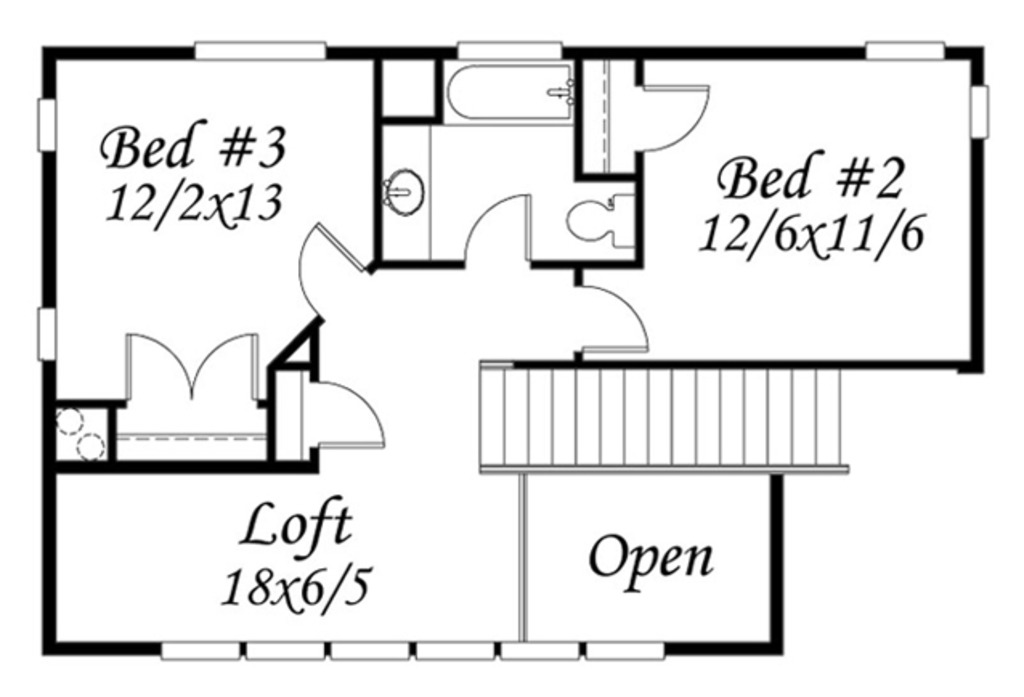door: (115, 322, 271, 412), (288, 217, 372, 320), (299, 372, 386, 459), (456, 187, 543, 272), (631, 78, 721, 152), (573, 279, 655, 352)
large_sink: (564, 182, 640, 251)
small_sink: (383, 147, 431, 241)
stairs: (470, 357, 855, 474)
tub: (440, 47, 582, 125)
window: (191, 36, 333, 64), (455, 31, 565, 63), (581, 640, 675, 664), (242, 637, 328, 662), (865, 41, 949, 64), (33, 91, 62, 157), (505, 640, 580, 664), (330, 639, 414, 660), (158, 640, 246, 659), (411, 639, 502, 657), (970, 80, 996, 139), (37, 305, 60, 360)
